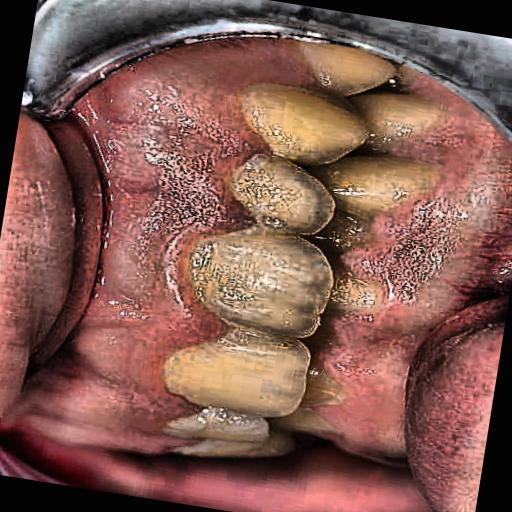Calculus: (160, 29, 422, 482)
